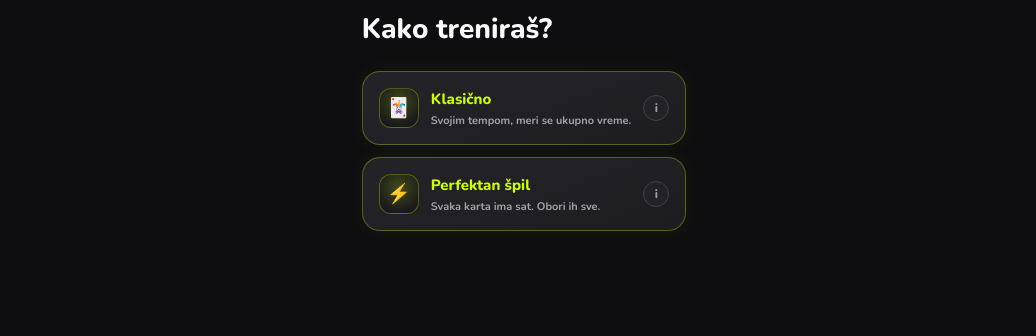
it: ModeSelector › errata E5.1: ⓘ otvara/zatvara akordeon (ne dialog) bez selekcije moda
Expected: the text "Svaka karta ima svoju vremensku kvotu" is not shown
Step 1. Click the button named "Objašnjenje moda" → [656, 194], box [643,181,669,207]
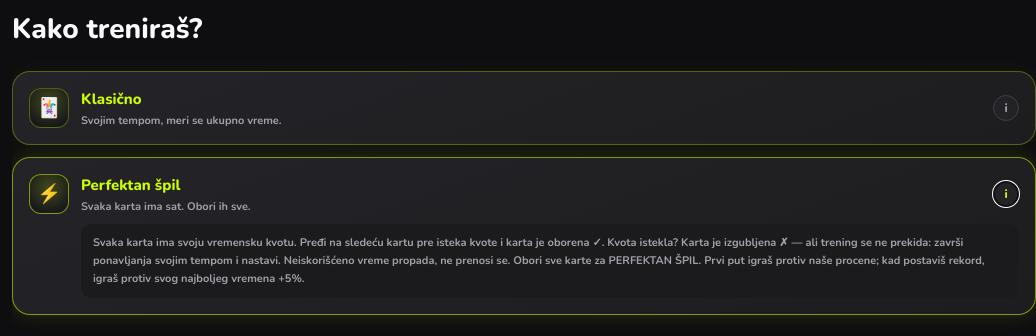
Now the text "Svaka karta ima svoju vremensku kvotu" is shown, box [93,235,984,286]
Step 2. Click the button named "Objašnjenje moda" → [1006, 194], box [993,181,1019,207]
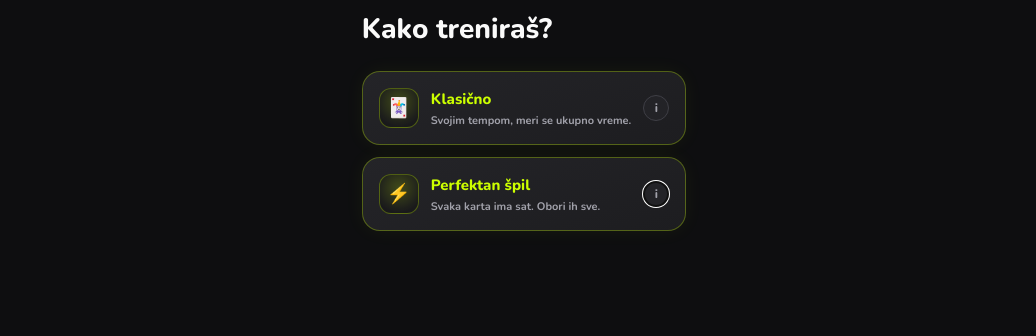
Now the text "Svaka karta ima svoju vremensku kvotu" is gone
